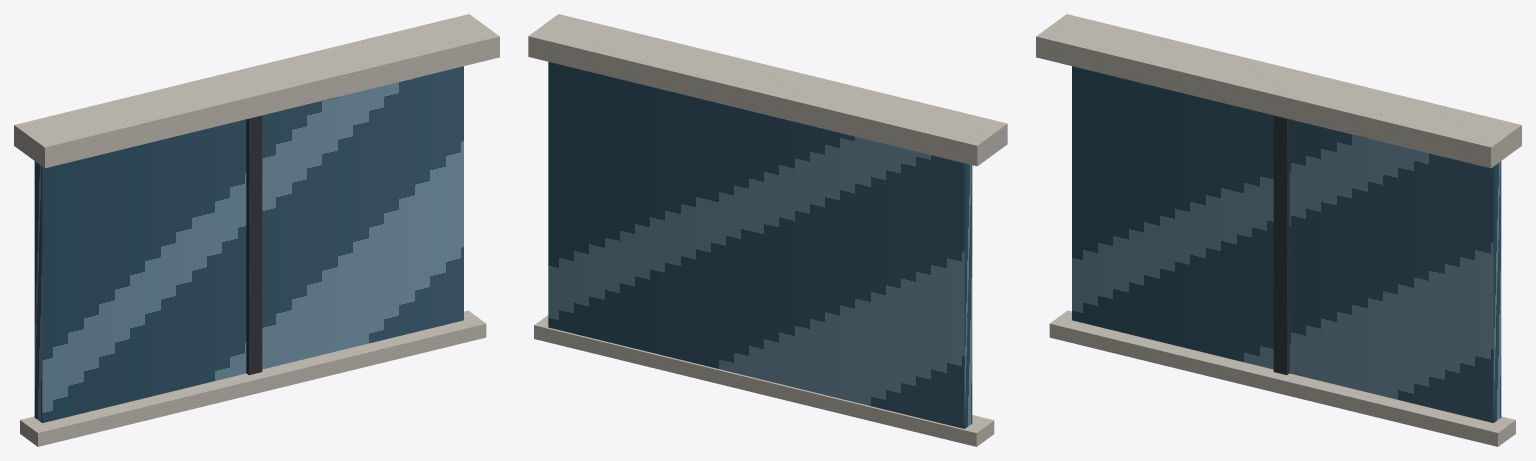
The model's file is window-modern-lod0.glb.
The picture shows the model from 3 angles, left to right: view 1: azimuth 30°, elevation 25°; view 2: azimuth 150°, elevation 25°; view 3: azimuth 330°, elevation 25°; orthographic projection.
Visible parts, largest first — view 1: window-modern-lod0; view 2: window-modern-lod0; view 3: window-modern-lod0.
Boxes of the visible parts, x1=… form: window-modern-lod0: x1=14, y1=14, x2=499, y2=446; window-modern-lod0: x1=528, y1=14, x2=1007, y2=446; window-modern-lod0: x1=1036, y1=14, x2=1521, y2=446.
Size of the model in its own units: 2.05 by 1.32 by 0.24.
1 material, 1 textured.
